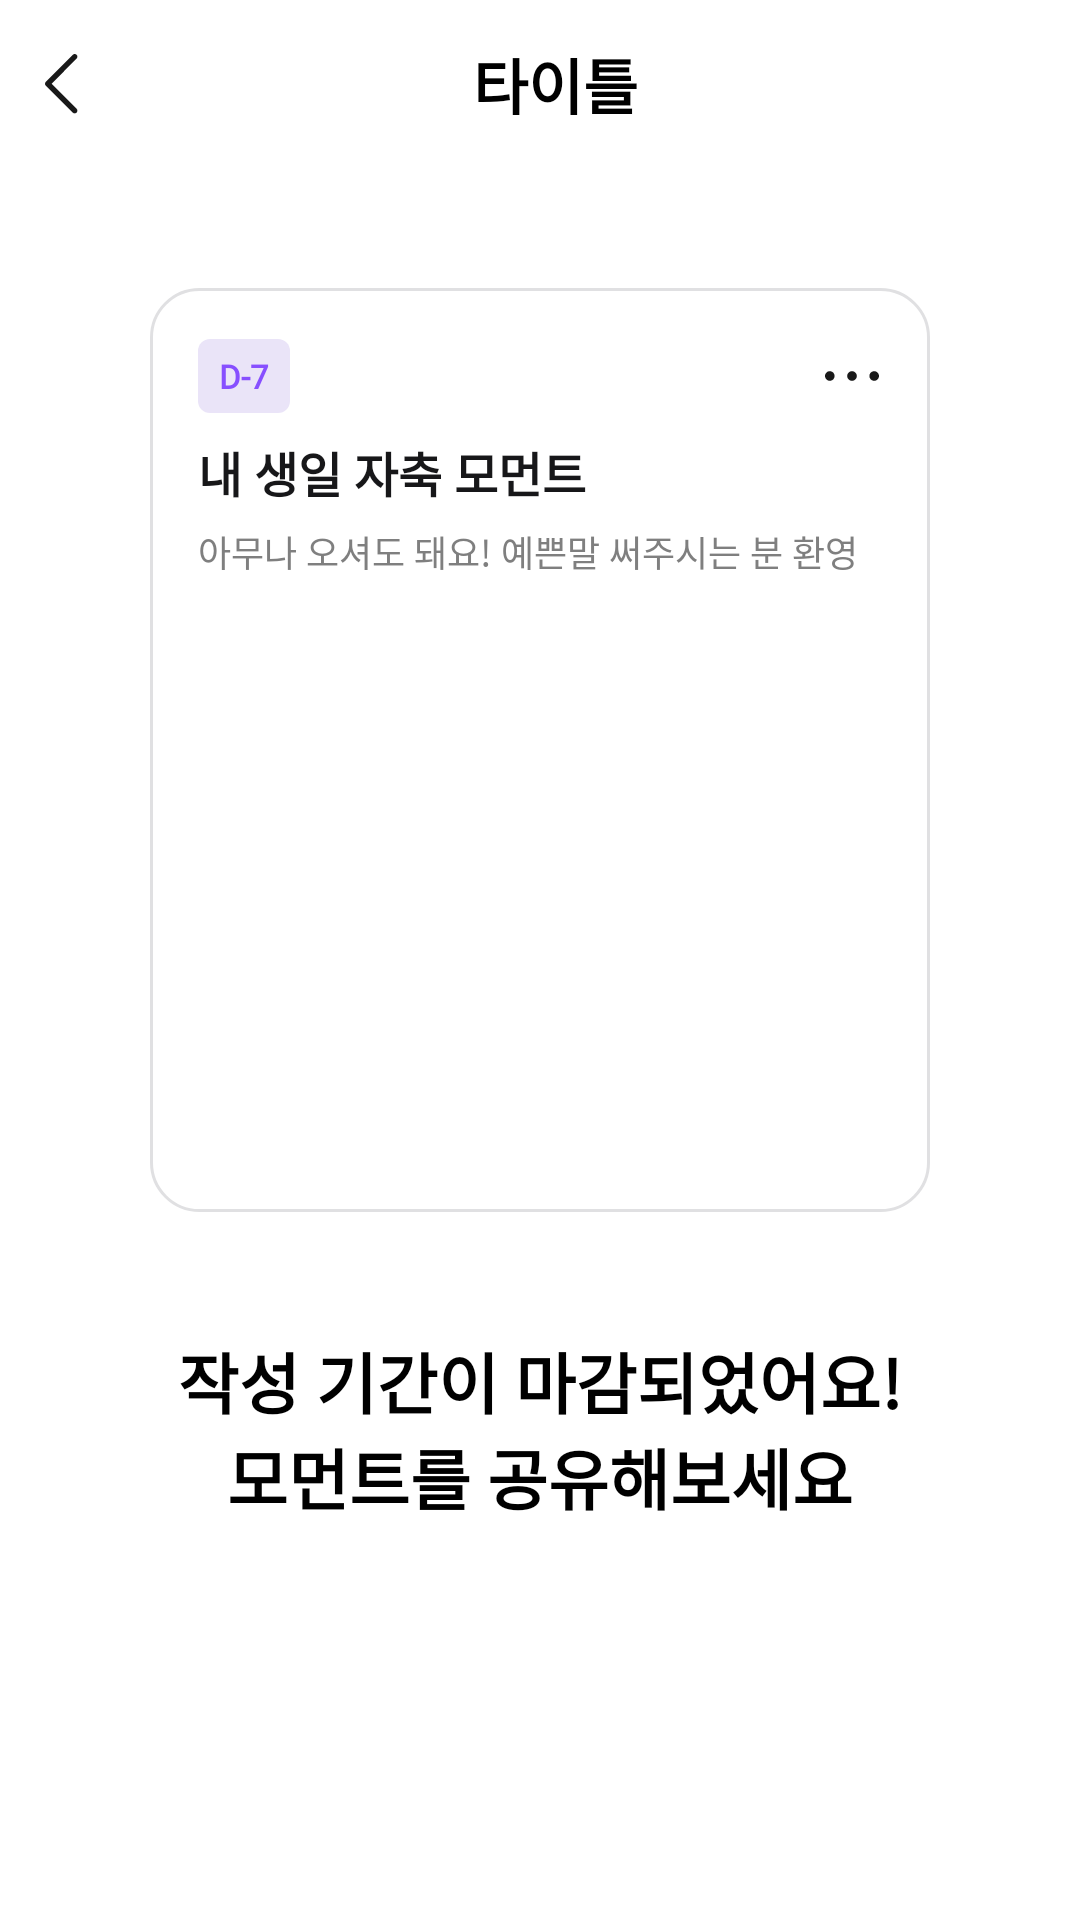

Icon bounding boxes for this 1080×1920 phone screenshot, format (x1, y1, x2, y2):
chevron left: (45, 54, 78, 114)
horizontal dots: (825, 371, 879, 381)
